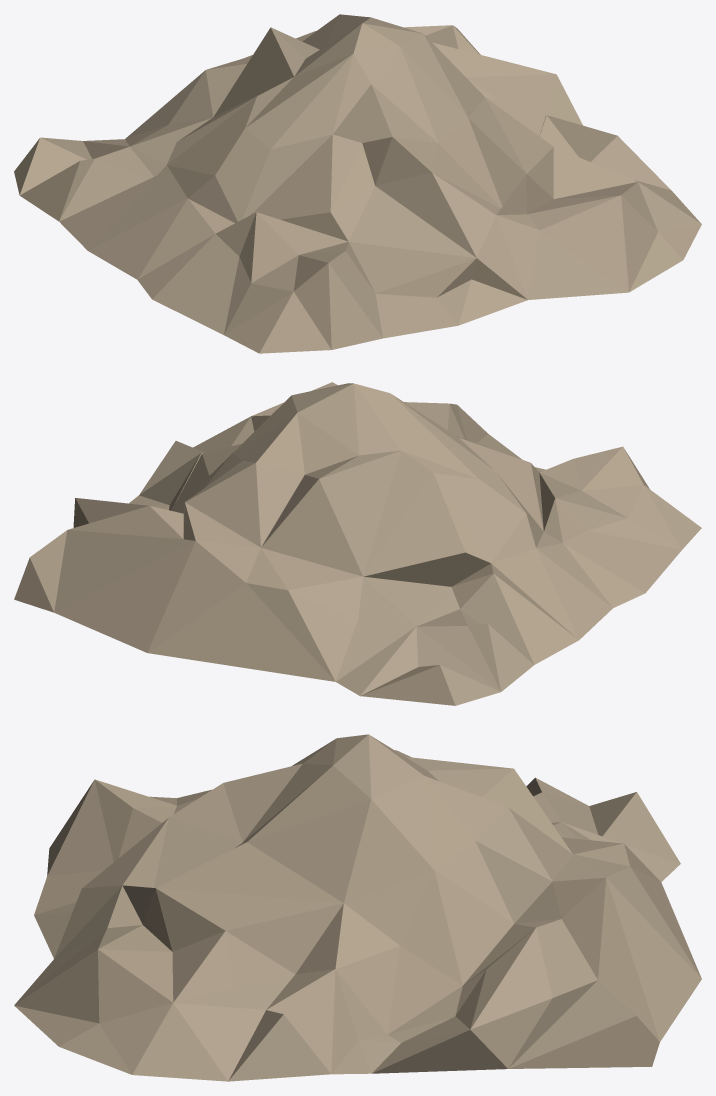
File: SM_Env_GroundMound_Rough_01.FBX
3 views of the same model, one above another, from view 1: azimuth 30°, elevation 25°; view 2: azimuth 150°, elevation 25°; view 3: azimuth 270°, elevation 25° (orthographic). The views are drawn at different scales.
Parts seen in each view (by area): view 1: SM_Env_GroundMound_Rough_01; view 2: SM_Env_GroundMound_Rough_01; view 3: SM_Env_GroundMound_Rough_01.
Part boxes in pixels (x1=…): SM_Env_GroundMound_Rough_01: x1=14, y1=14, x2=701, y2=353; SM_Env_GroundMound_Rough_01: x1=14, y1=382, x2=701, y2=705; SM_Env_GroundMound_Rough_01: x1=14, y1=734, x2=701, y2=1081.
Size of what is drawn, in the model's own units: 337 by 350 by 117.
